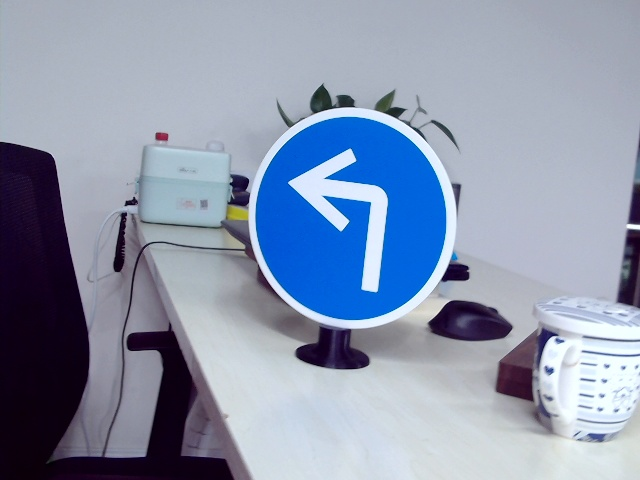turn_left: (285, 144, 401, 297)
